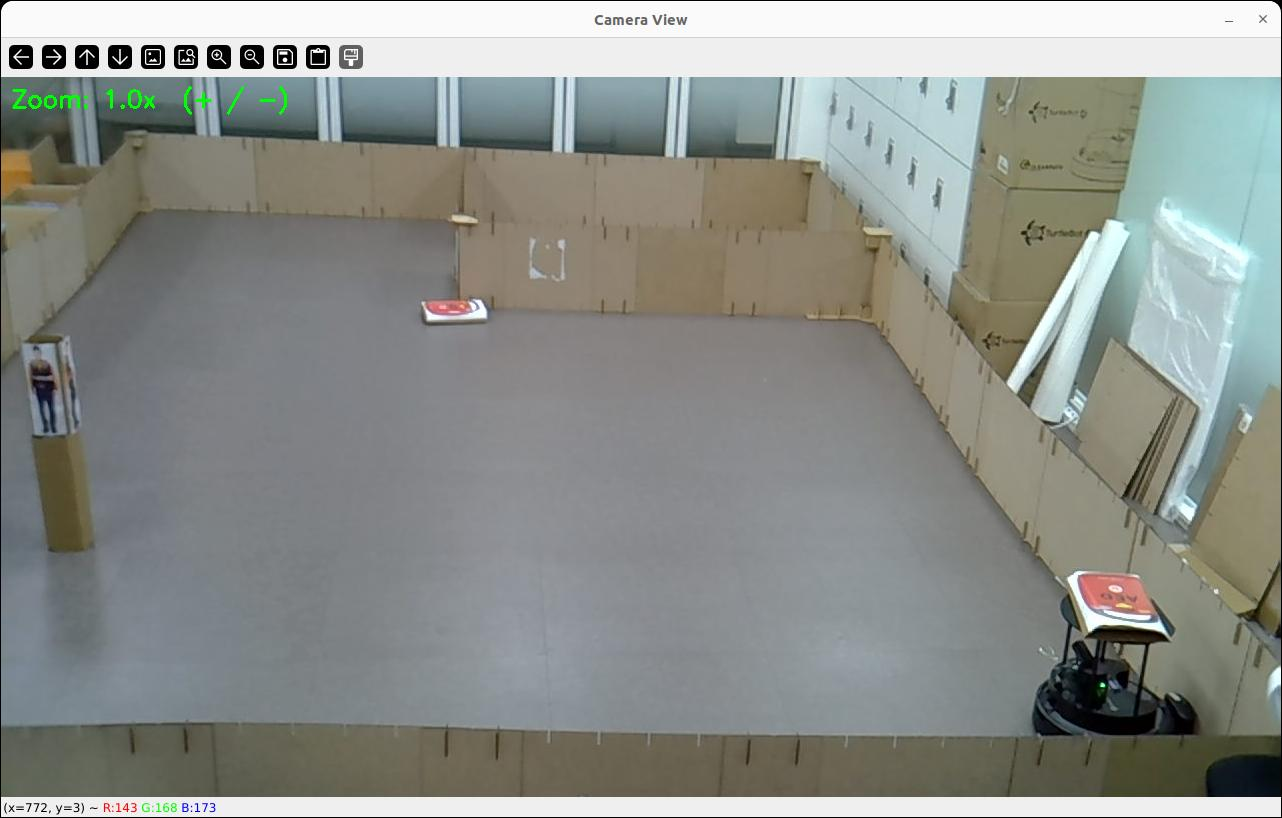AED: (1069, 571, 1169, 641), (423, 299, 487, 324)
Responder: (28, 349, 56, 433), (59, 338, 80, 432)
Robot: (1033, 596, 1170, 735)
